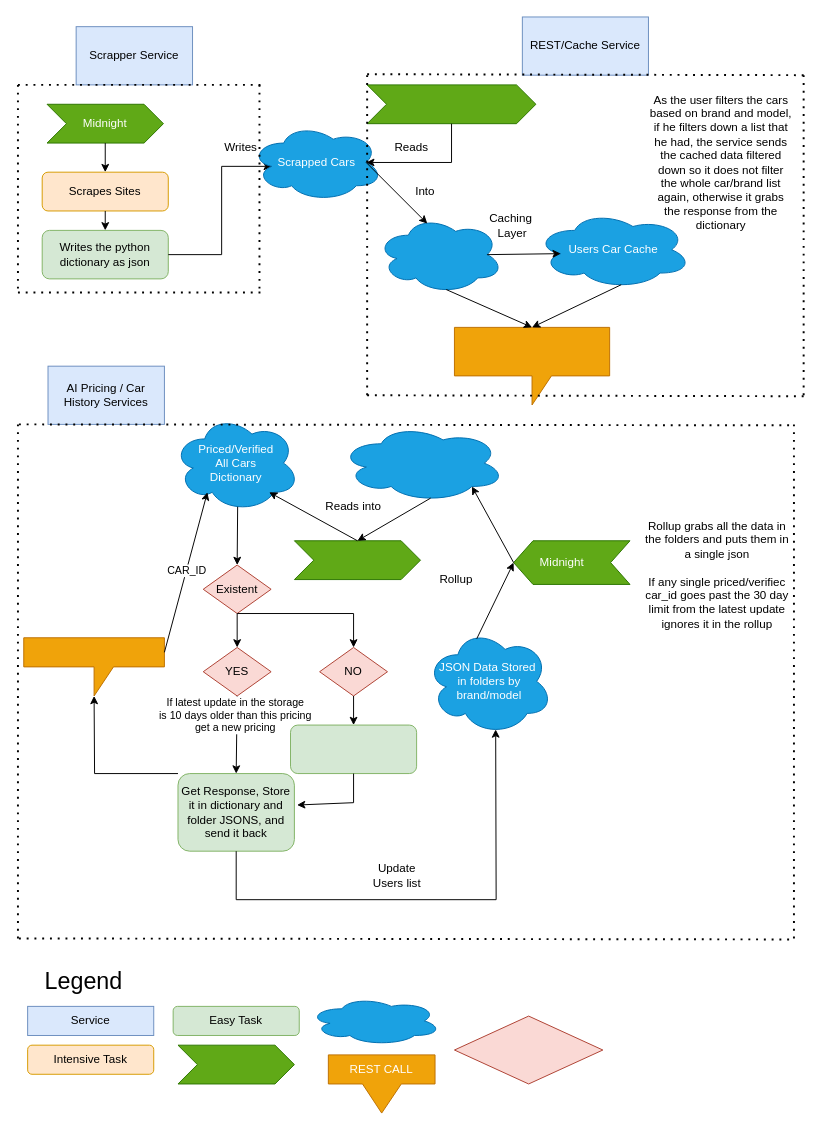
Some shapes in this 822 by 1130 pixel diagram are drawn without their labels. The centre of each missing label's shape, as x and y in pixels:
"After Midnight Or Start" belongs at pixel 451 104.
"Cars Dictionary" belongs at pixel 439 254.
"FLOW CONTROLLER" belongs at pixel 528 1049.
"GET CARS BY BRAND AND MODEL + FILTERS" belongs at pixel 531 365.
"Get GPT Pricing / Car Vertical Eval" belongs at pixel 353 749.
"JSON Data of all Verified/Priced Cars" belongs at pixel 422 462.
"Price / Verify a Car by ID" belongs at pixel 93 666.
"Start of Service" belongs at pixel 356 560.
"Storage" belongs at pixel 374 1020.
"Trigger" belongs at pixel 235 1064.
